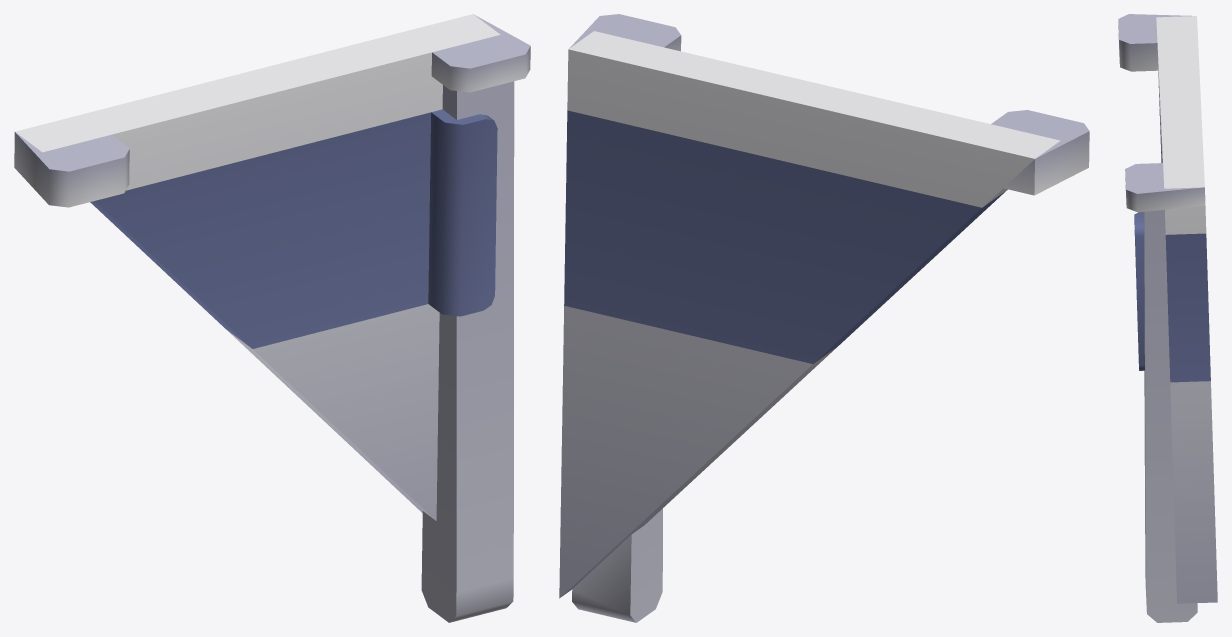
Rendered from template-wall-stairs.003_lev4.glb.
The picture shows the model from 3 angles, left to right: view 1: azimuth 30°, elevation 25°; view 2: azimuth 150°, elevation 25°; view 3: azimuth 270°, elevation 25°; orthographic projection. The views are drawn at different scales.
Visible parts, largest first — view 1: template-wall-stairs.003_lev4; view 2: template-wall-stairs.003_lev4; view 3: template-wall-stairs.003_lev4.
Boxes of the visible parts, x1,y1,x2,y2 form: template-wall-stairs.003_lev4: (14, 14, 530, 622); template-wall-stairs.003_lev4: (559, 14, 1089, 622); template-wall-stairs.003_lev4: (1118, 14, 1217, 622).
Bounding box in the file's own units: 12.6 × 14.15 × 2.94.
Materials: 1 (1 with a texture image).
